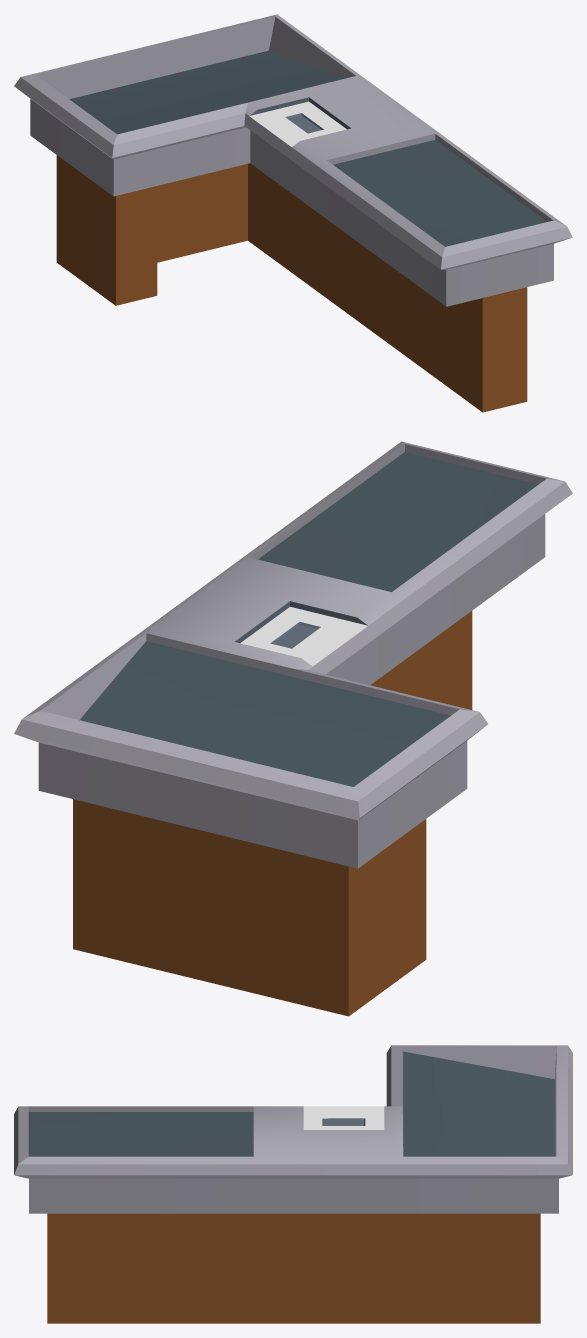
The model's file is Table.fbx.
3 views of the same model, one above another, from view 1: azimuth 30°, elevation 25°; view 2: azimuth 150°, elevation 25°; view 3: azimuth 270°, elevation 25° (orthographic). The views are drawn at different scales.
Visible parts, largest first — view 1: Table; view 2: Table; view 3: Table.
Boxes of the visible parts, x1,y1,x2,y2 form: Table: (14,14,572,412); Table: (14,441,572,1016); Table: (14,1045,572,1323).
Bounding box in the file's own units: 63.16 × 42.1 × 122.
